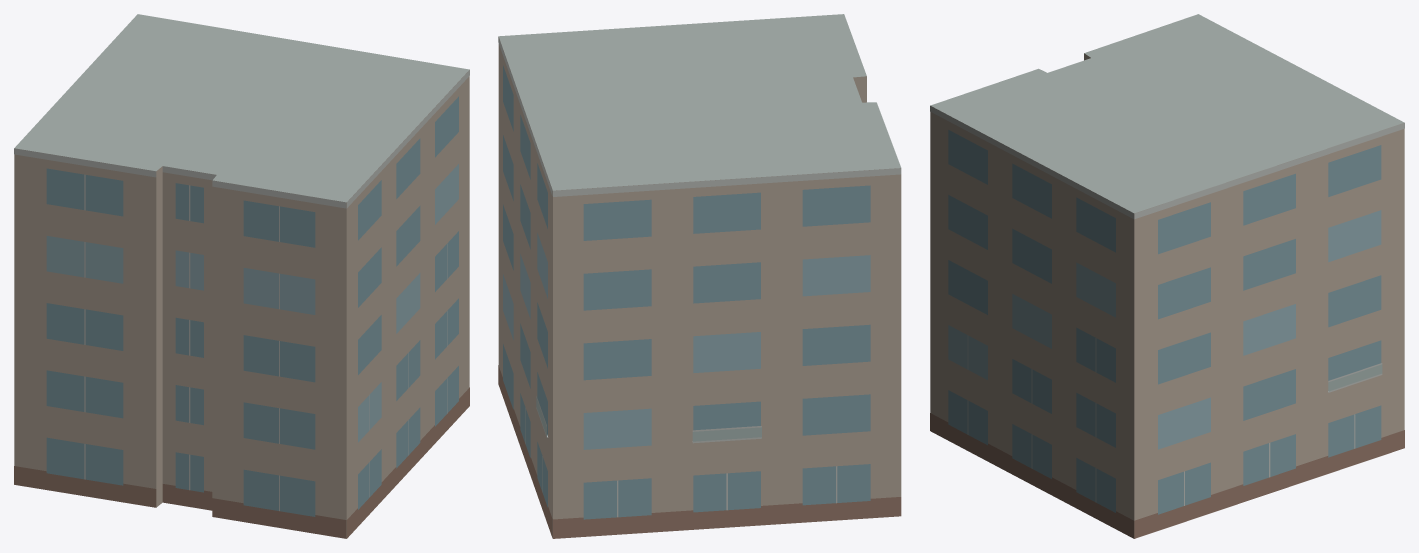
The model's file is survey-upis-32956730.glb.
3 renders of one model, left to right at view 1: azimuth 30°, elevation 25°; view 2: azimuth 150°, elevation 25°; view 3: azimuth 270°, elevation 25°, orthographic. The views are drawn at different scales.
Visible parts, largest first — view 1: survey-upis-32956730.tmp; view 2: survey-upis-32956730.tmp; view 3: survey-upis-32956730.tmp.
Boxes of the visible parts, x1=… form: survey-upis-32956730.tmp: x1=14, y1=14, x2=469, y2=538; survey-upis-32956730.tmp: x1=498, y1=14, x2=901, y2=538; survey-upis-32956730.tmp: x1=930, y1=14, x2=1404, y2=538.
Size of the model in its own units: 17.35 by 13.2 by 17.45.
